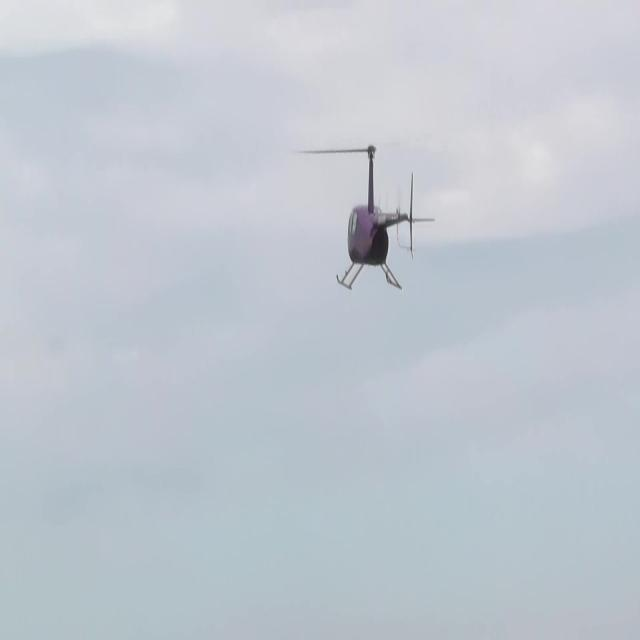CIV_HELO: (336, 146, 435, 293)
